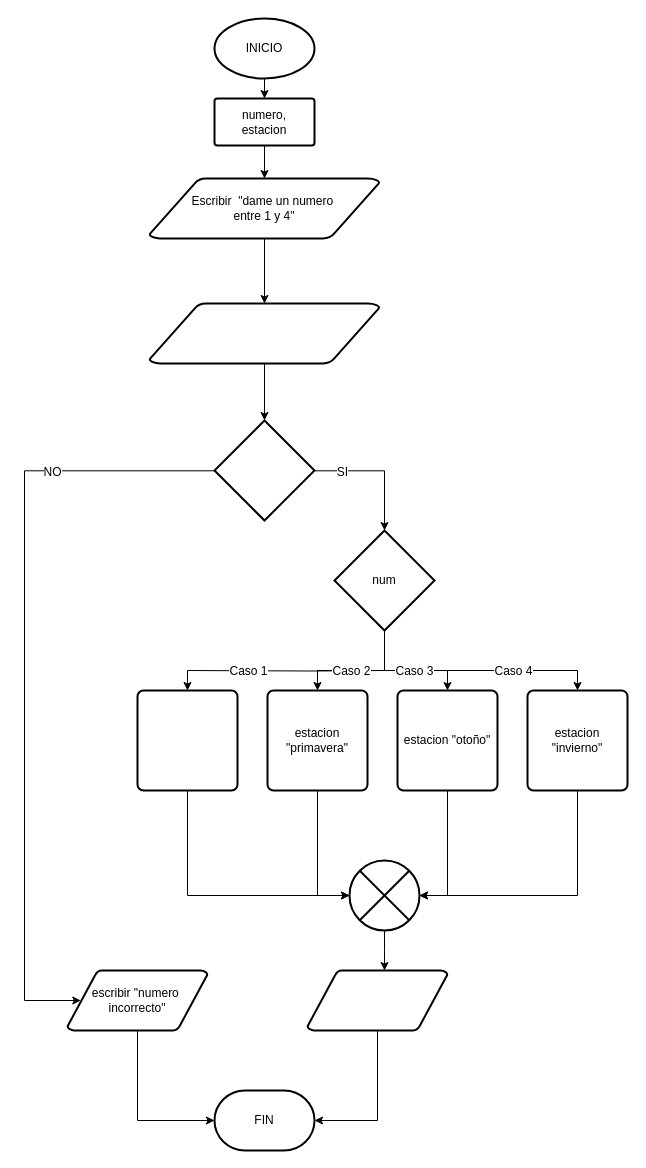
Some shapes in this 646 by 1168 pixel diagram are drawn without their labels. The box of each missing label's shape, as (x1, y1, x2, y2) in pixels:
Escribir estacion: (306, 969, 448, 1031)
estacion "verano": (136, 689, 238, 791)
leerr numero: (148, 302, 380, 364)
num >= 1 && num <= 4: (213, 419, 315, 521)
